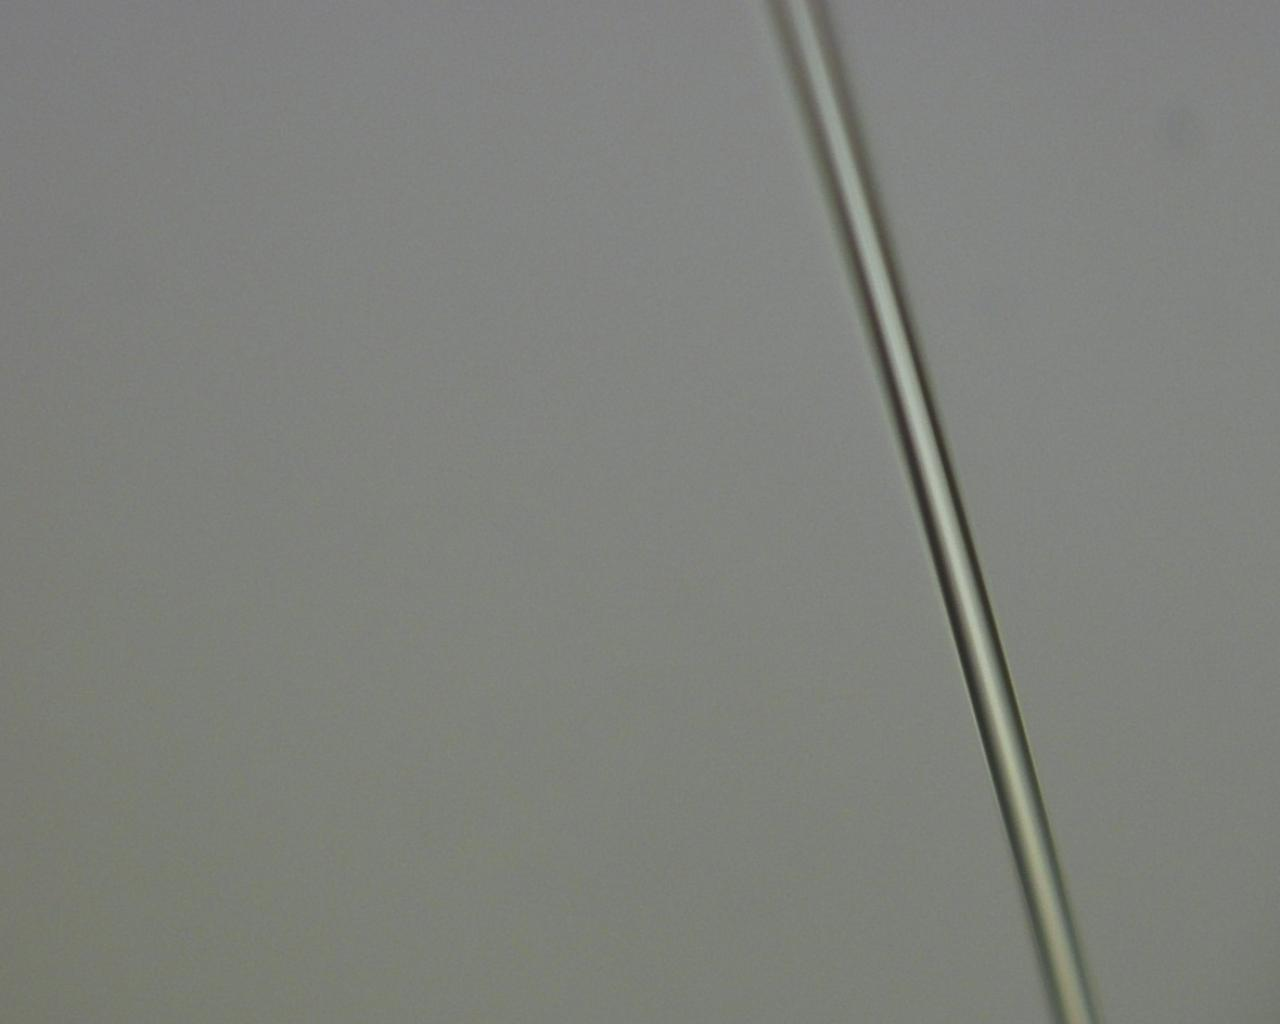fiber: (607, 0, 691, 1024)
